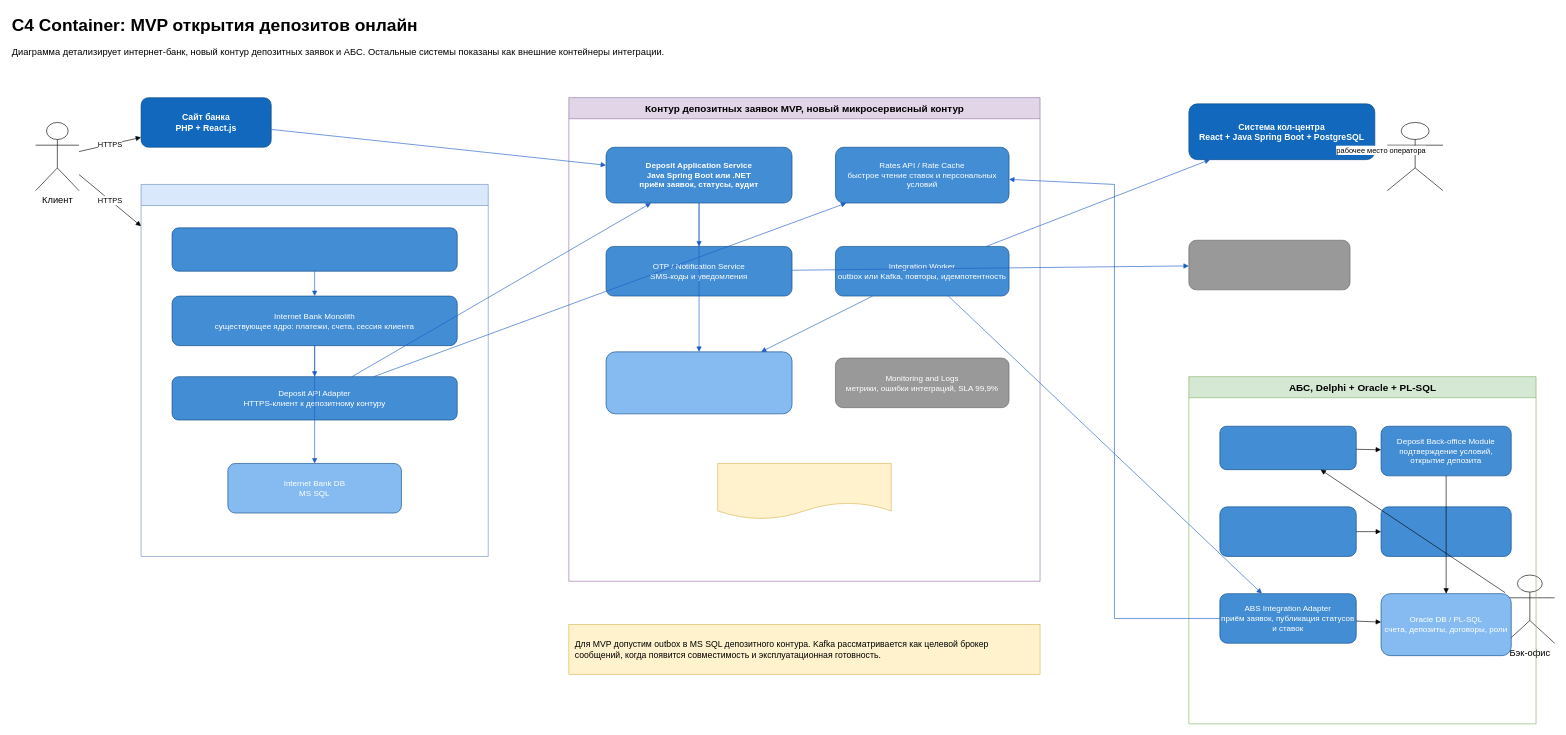
The diagram is 1566 pixels wide and 735 high, and some of its shapes have lost their labels. Here are the shapes that lost their labels. From the top down, the box of each, then its label:
(1387, 122, 1443, 191): Оператор кол-центра
(171, 227, 457, 271): Deposit UI Module экраны депозитов, выбор счёта и суммы
(1188, 240, 1350, 290): SMS-шлюз телеком-оператор
(140, 184, 488, 556): Интернет-банк, ASP.NET MVC 4.5 + MS SQL
(605, 351, 792, 414): Deposit Applications DB MS SQL заявки, статусы, outbox, аудит
(1219, 426, 1356, 470): Delphi Desktop Client рабочее место бэк-офиса
(717, 463, 891, 519): API Contracts OpenAPI, форматы событий, коды ошибок
(1219, 506, 1356, 556): Rate Management Module ставки и правила вместо XLS
(1380, 506, 1511, 556): Credit Risk Module данные риска для специальных ставок
